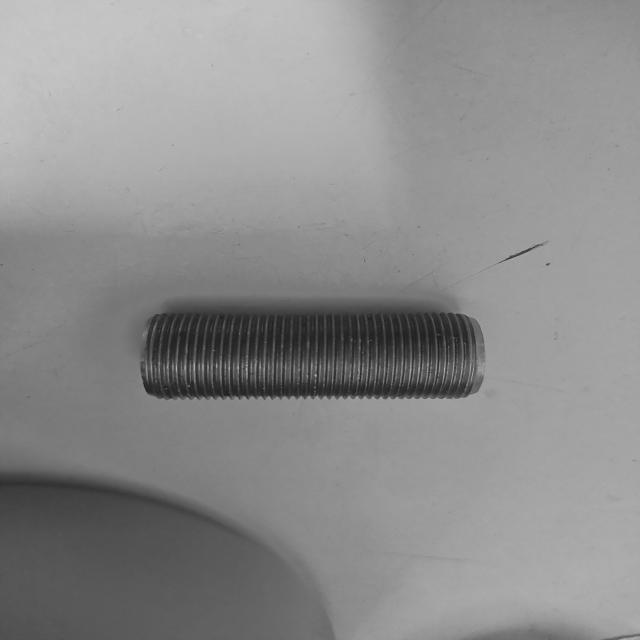Normal: (141, 308, 485, 402)
